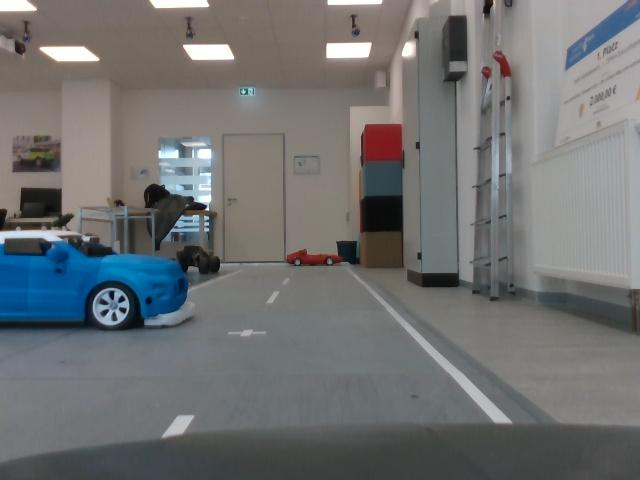car: (2, 227, 203, 330), (176, 244, 223, 277), (291, 249, 345, 267)
